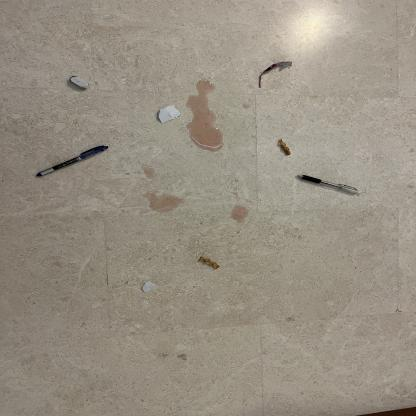dirty: (258, 61, 292, 88), (158, 104, 182, 122), (198, 257, 221, 270), (279, 139, 291, 156), (141, 281, 155, 293)
liquid: (186, 81, 223, 151), (143, 190, 185, 212), (232, 204, 249, 223), (143, 166, 155, 180), (232, 179, 240, 198), (242, 103, 250, 109), (137, 170, 142, 174), (138, 160, 142, 164), (129, 161, 133, 164)
